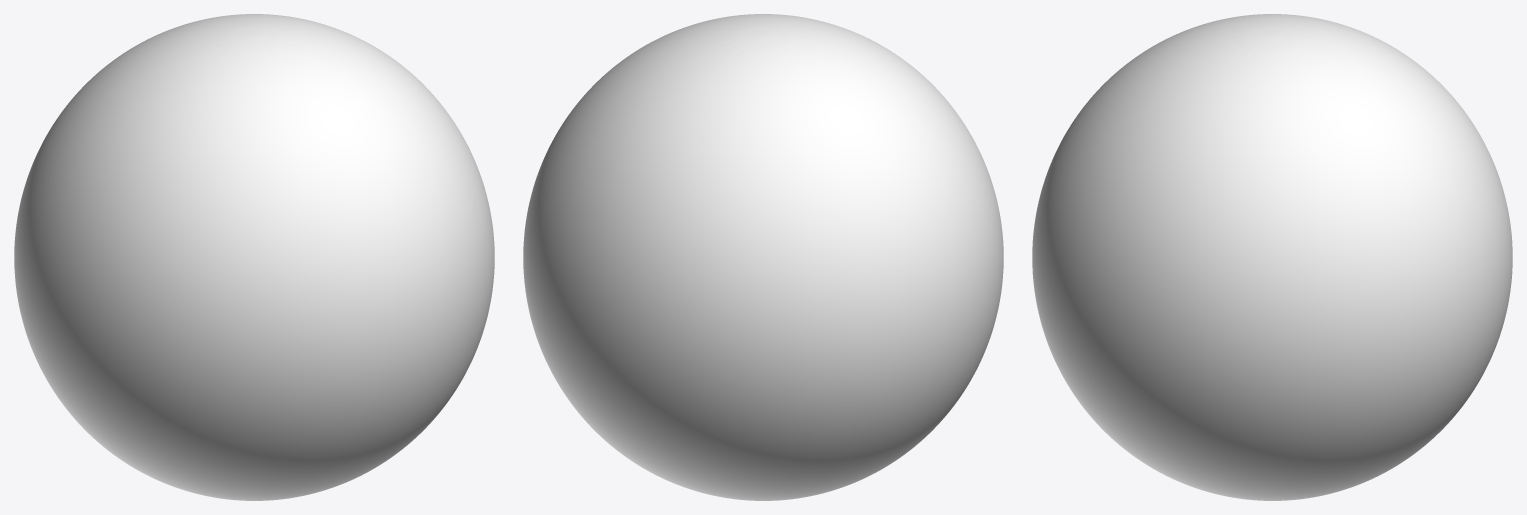
The model's file is stressSphere.fbx.
3 views of the same model, side by side, from view 1: azimuth 30°, elevation 25°; view 2: azimuth 150°, elevation 25°; view 3: azimuth 270°, elevation 25° (orthographic).
Visible parts, largest first — view 1: stressSphere1; view 2: stressSphere1; view 3: stressSphere1.
Part boxes in pixels (x1,y1,x2,y2): stressSphere1: (14, 14, 494, 500); stressSphere1: (523, 14, 1003, 500); stressSphere1: (1032, 14, 1512, 500).
Bounding box in the file's own units: 546 × 556 × 546.
Materials: 1 (1 with a texture image).
